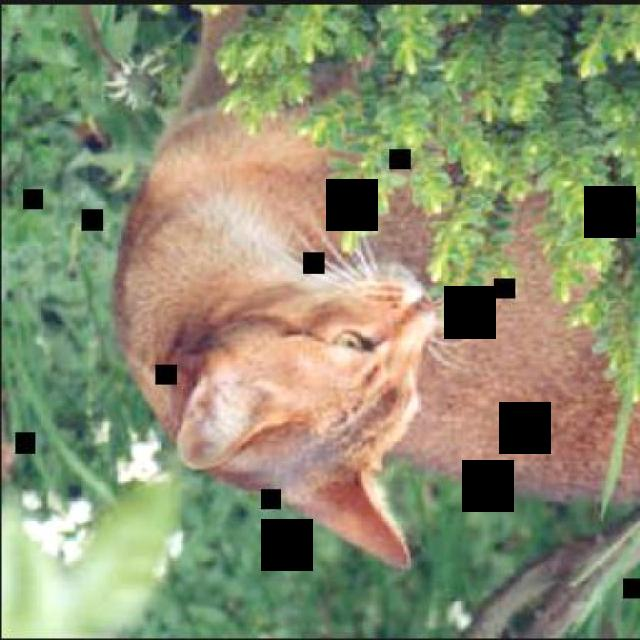unauthorized: (109, 3, 460, 571)
